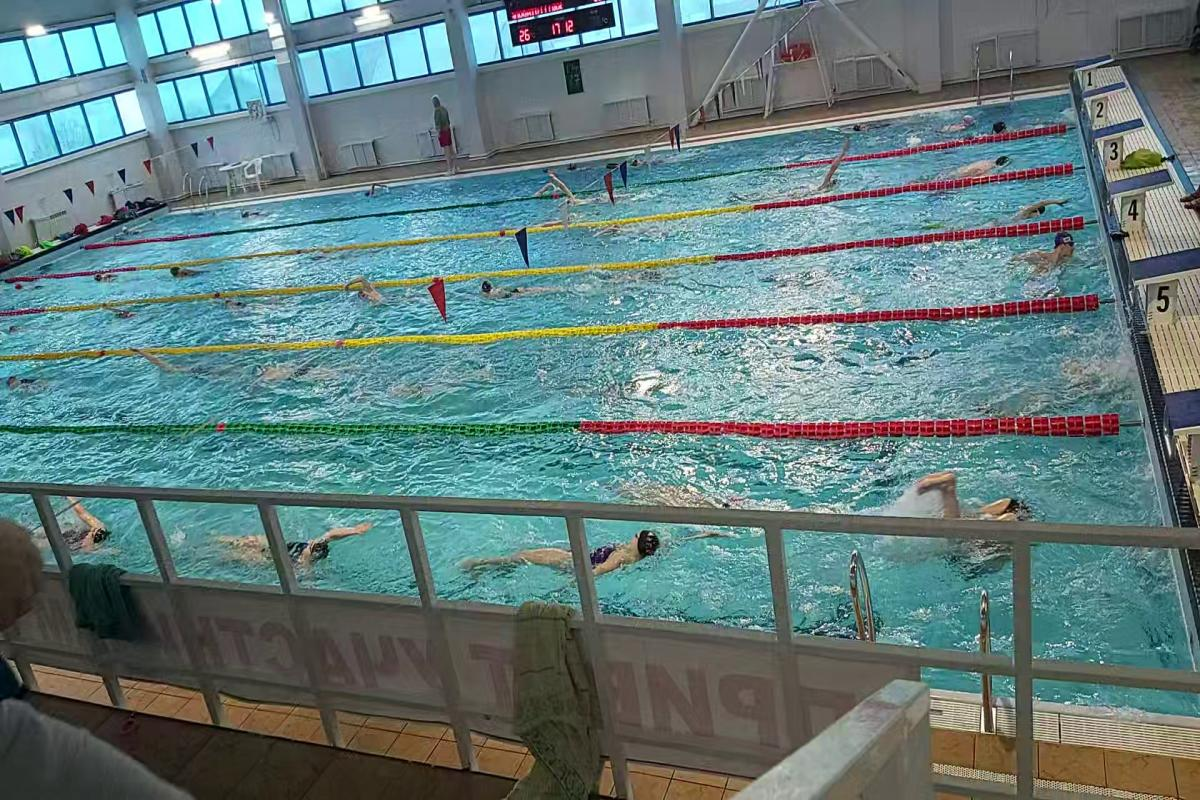swimmer: (909, 468, 1045, 580), (474, 527, 704, 588), (219, 518, 389, 572), (29, 499, 129, 562), (1011, 230, 1100, 284), (244, 356, 354, 394), (132, 346, 222, 388), (997, 183, 1081, 221), (939, 151, 1029, 177), (473, 277, 563, 302), (341, 275, 402, 311), (209, 296, 294, 318), (813, 156, 852, 192), (102, 299, 151, 327), (161, 264, 221, 286), (4, 370, 54, 394)
